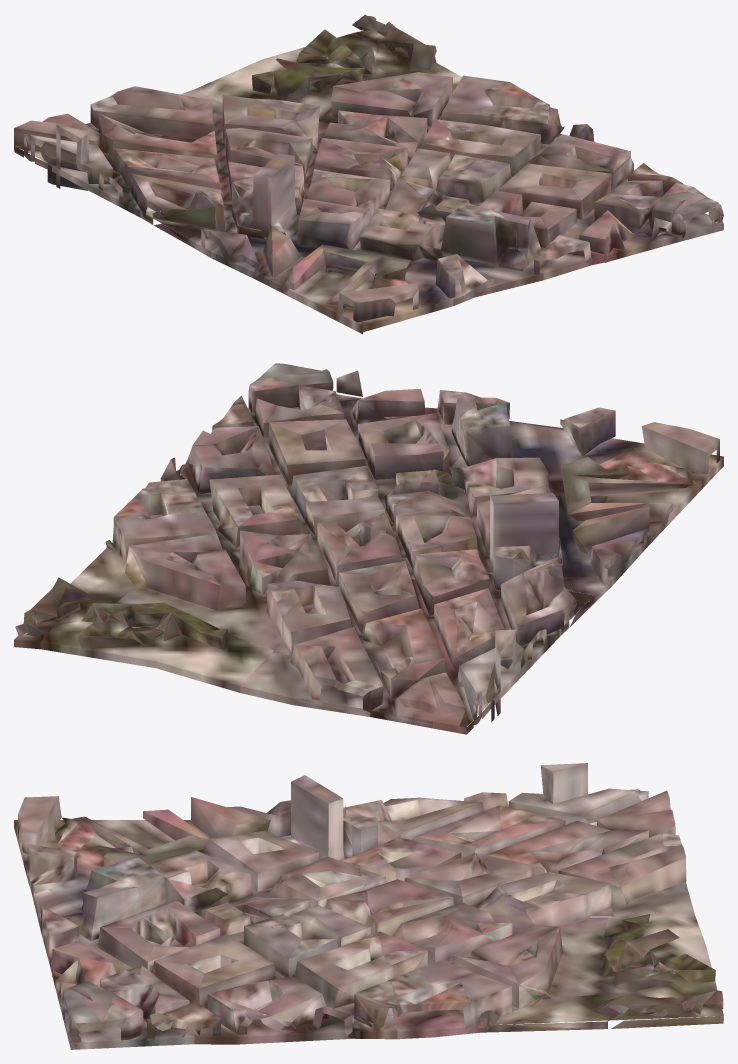
3 views of the same model, one above another, from view 1: azimuth 30°, elevation 25°; view 2: azimuth 150°, elevation 25°; view 3: azimuth 270°, elevation 25° (orthographic). The views are drawn at different scales.
Visible parts, largest first — view 1: Mesh_0; view 2: Mesh_0; view 3: Mesh_0.
Boxes of the visible parts, x1,y1,x2,y2 form: Mesh_0: (14,14,723,334); Mesh_0: (14,363,723,734); Mesh_0: (14,763,723,1049).
Bounding box in the file's own units: 532 × 99.01 × 659.
Materials: 2 (2 with a texture image).
